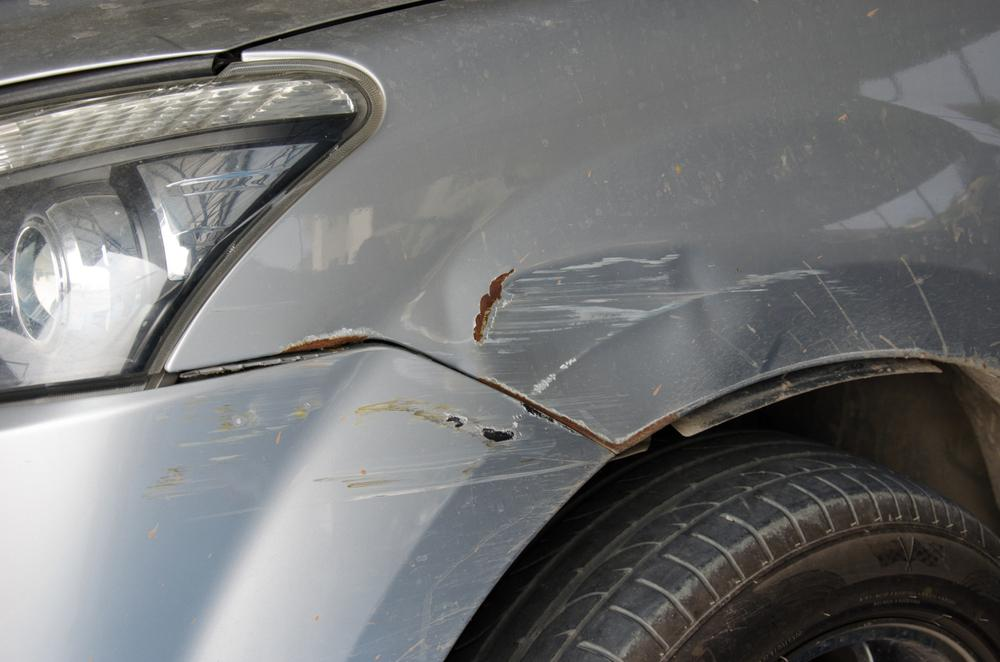dent: (674, 240, 725, 366)
scratch: (142, 371, 596, 662), (465, 251, 678, 392), (735, 261, 878, 300)
